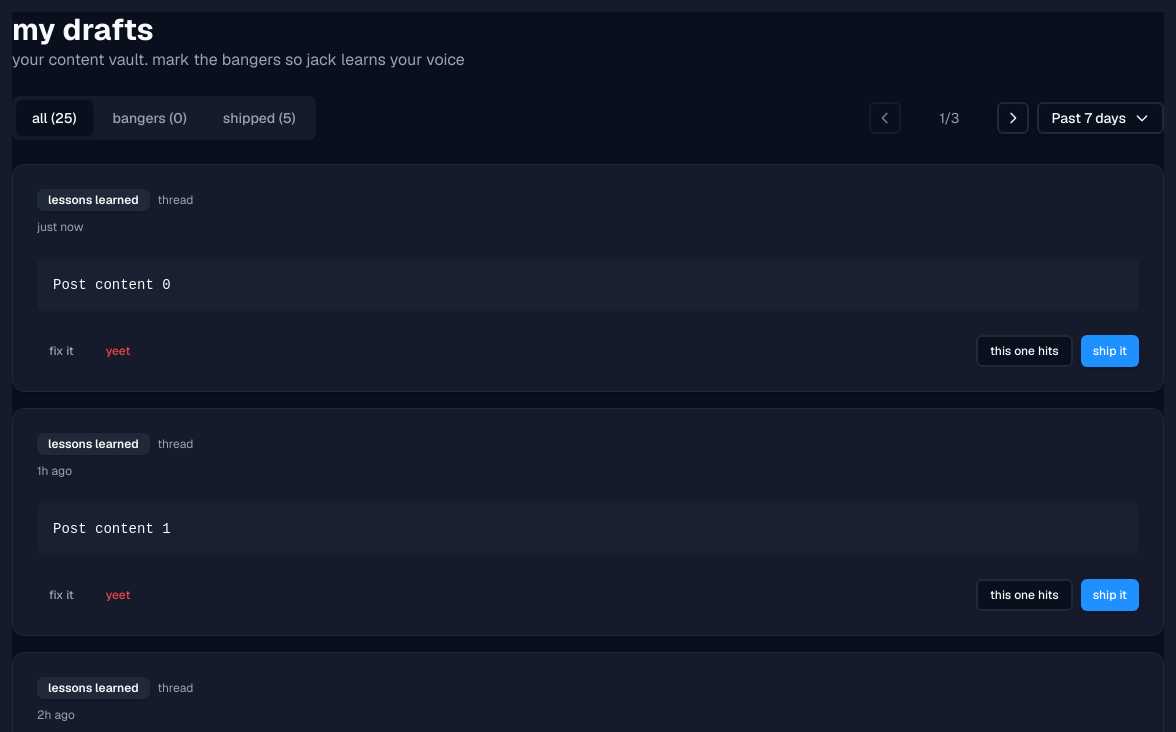
Test: Posts List - Pagination Integration › Pagination Reset on Filter Change › should maintain correct pagination after filter
Expected: the text "1/3" is shown, [940,109,959,127]
// Switch to "shipped" - 5 items, no pagination needed
Click the button "shipped (5)" at (259, 118), box [207,100,312,136]
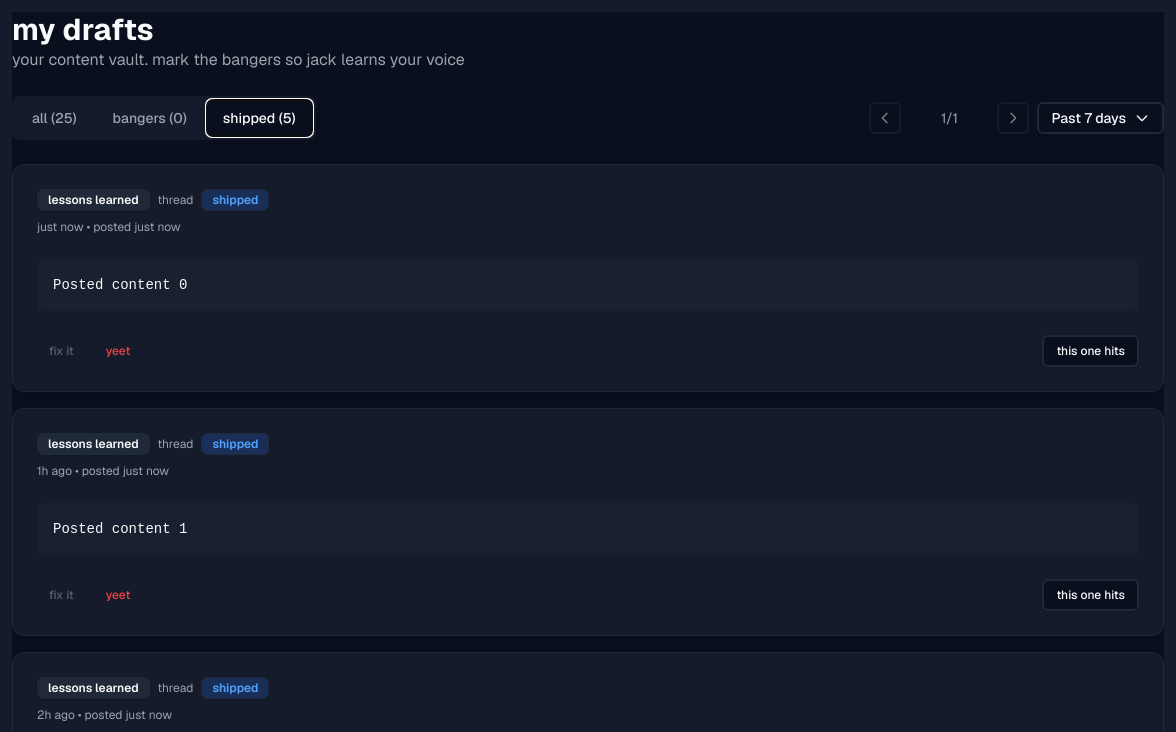
Now the text "Posted content 0" is shown 5 times
